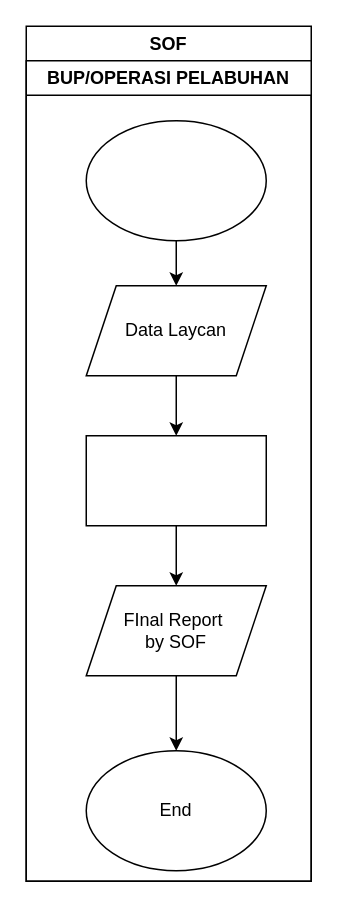
The diagram is 338 pixels wide and 908 high, and some of its shapes have lost their labels. Each missing label, with the centre of its shape:
"Entry FInal Report by SOF" belongs at pixel 175 480.
"Start" belongs at pixel 175 180.
